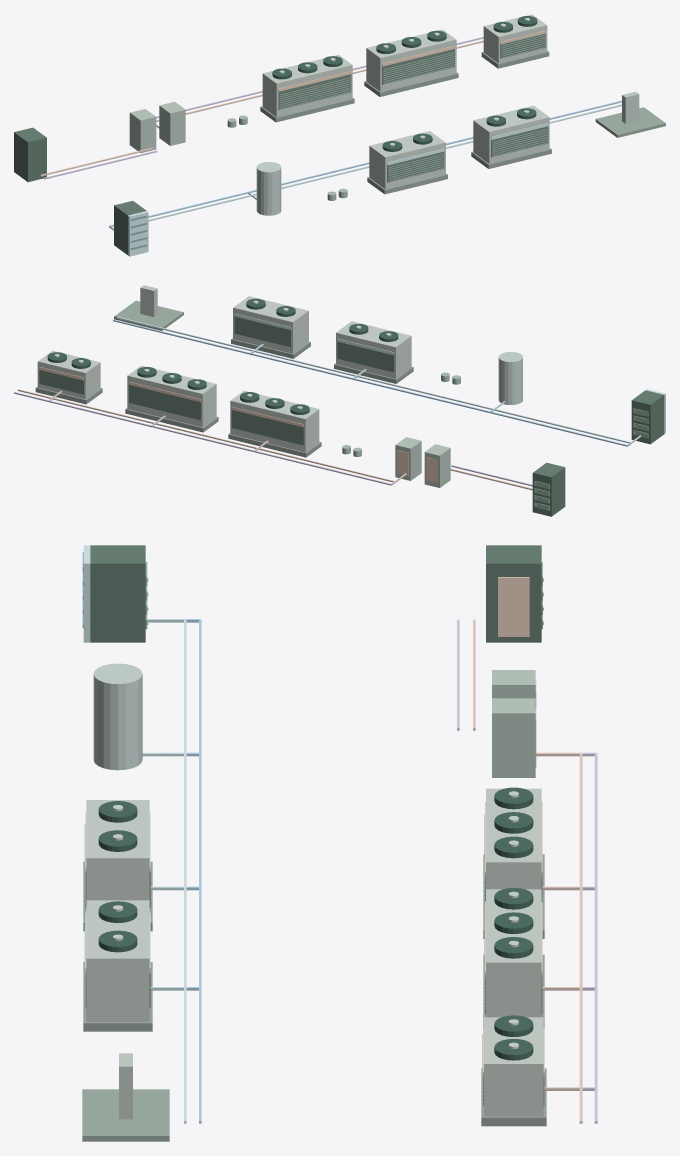
Rendered from two-loop-cooling.glb.
3 renders of one model, top to bottom at view 1: azimuth 30°, elevation 25°; view 2: azimuth 150°, elevation 25°; view 3: azimuth 270°, elevation 25°, orthographic. The views are drawn at different scales.
Visible parts, largest first — view 1: Dry cooler · Loop A / Generic enclosure (×2), Scroll chiller · Loop B / Generic enclosure (×2), Dry cooler · Loop A / Coil face (×2), CDU category / CDU enclosure (×2), Scroll chiller · Loop B / Coil face (×2), DLC rack category / Generic rack, Chilled facility circuit / Schematic circuit (×2), Trim chiller · Loop A / Generic enclosure, Buffer tank category / Buffer tank, Dry cooler · Loop A / Equipment support (×2), Generator docking concept / Unlocated docking pad, Scroll chiller · Loop B / Equipment support (×2) (+5 smaller); view 2: Dry cooler · Loop A / Generic enclosure (×2), Scroll chiller · Loop B / Generic enclosure (×2), Dry cooler · Loop A / Coil face (×2), Chilled facility circuit / Schematic circuit (×2), Scroll chiller · Loop B / Coil face (×2), Warm facility circuit / Schematic circuit (×2), CDU category / CDU enclosure (×2), Trim chiller · Loop A / Generic enclosure, Rear-door rack category / Generic rack, DLC rack category / Generic rack, Buffer tank category / Buffer tank, Dry cooler · Loop A / Equipment support (×2) (+5 smaller); view 3: Scroll chiller · Loop B / Generic enclosure (×2), Dry cooler · Loop A / Generic enclosure (×2), Rear-door rack category / Generic rack, Buffer tank category / Buffer tank, CDU category / CDU enclosure (×2), Trim chiller · Loop A / Generic enclosure, Generator docking concept / Unlocated docking pad, DLC rack category / Generic rack, Chilled facility circuit / Schematic circuit (×2), Warm facility circuit / Schematic circuit (×2), DLC rack category / Liquid interface indication, Scroll chiller · Loop B / Equipment support (+2 smaller).
Boxes of the visible parts, bbox=[...] form: Dry cooler · Loop A / Generic enclosure (×2): bbox=[262, 29, 456, 117]; Scroll chiller · Loop B / Generic enclosure (×2): bbox=[369, 105, 549, 189]; Dry cooler · Loop A / Coil face (×2): bbox=[278, 49, 454, 109]; CDU category / CDU enclosure (×2): bbox=[129, 101, 185, 152]; Scroll chiller · Loop B / Coil face (×2): bbox=[387, 126, 548, 182]; DLC rack category / Generic rack: bbox=[14, 127, 46, 182]; Chilled facility circuit / Schematic circuit (×2): bbox=[109, 100, 621, 226]; Trim chiller · Loop A / Generic enclosure: bbox=[483, 14, 547, 63]; Buffer tank category / Buffer tank: bbox=[256, 162, 281, 215]; Dry cooler · Loop A / Equipment support (×2): bbox=[260, 72, 458, 122]; Generator docking concept / Unlocated docking pad: bbox=[595, 107, 665, 137]; Scroll chiller · Loop B / Equipment support (×2): bbox=[367, 148, 551, 194]; Dry cooler · Loop A / Generic enclosure (×2): bbox=[127, 365, 319, 452]; Scroll chiller · Loop B / Generic enclosure (×2): bbox=[233, 296, 411, 378]; Dry cooler · Loop A / Coil face (×2): bbox=[129, 385, 303, 445]; Chilled facility circuit / Schematic circuit (×2): bbox=[113, 317, 630, 446]; Scroll chiller · Loop B / Coil face (×2): bbox=[234, 316, 394, 372]; Warm facility circuit / Schematic circuit (×2): bbox=[14, 389, 394, 485]; CDU category / CDU enclosure (×2): bbox=[395, 437, 450, 487]; Trim chiller · Loop A / Generic enclosure: bbox=[37, 350, 100, 399]; Rear-door rack category / Generic rack: bbox=[631, 390, 664, 444]; DLC rack category / Generic rack: bbox=[532, 462, 565, 516]; Buffer tank category / Buffer tank: bbox=[498, 351, 522, 404]; Dry cooler · Loop A / Equipment support (×2): bbox=[125, 408, 321, 457]; Scroll chiller · Loop B / Generic enclosure (×2): bbox=[86, 800, 149, 1021]; Dry cooler · Loop A / Generic enclosure (×2): bbox=[486, 788, 541, 1017]; Rear-door rack category / Generic rack: bbox=[90, 545, 145, 642]; Buffer tank category / Buffer tank: bbox=[93, 663, 142, 770]; CDU category / CDU enclosure (×2): bbox=[492, 670, 535, 777]; Trim chiller · Loop A / Generic enclosure: bbox=[484, 1017, 543, 1116]; Generator docking concept / Unlocated docking pad: bbox=[82, 1089, 169, 1141]; DLC rack category / Generic rack: bbox=[486, 545, 541, 642]; Chilled facility circuit / Schematic circuit (×2): bbox=[184, 619, 201, 1123]; Warm facility circuit / Schematic circuit (×2): bbox=[579, 753, 597, 1123]; DLC rack category / Liquid interface indication: bbox=[498, 577, 529, 636]; Scroll chiller · Loop B / Equipment support: bbox=[83, 962, 152, 1031].
Bounding box in the file's own units: 30.95 × 2.6 × 13.01.
